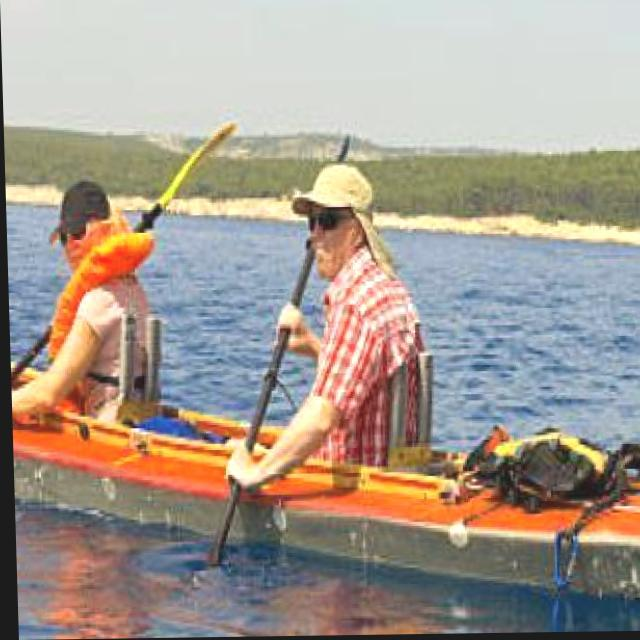kayak: (224, 442, 640, 597), (10, 318, 244, 565)
